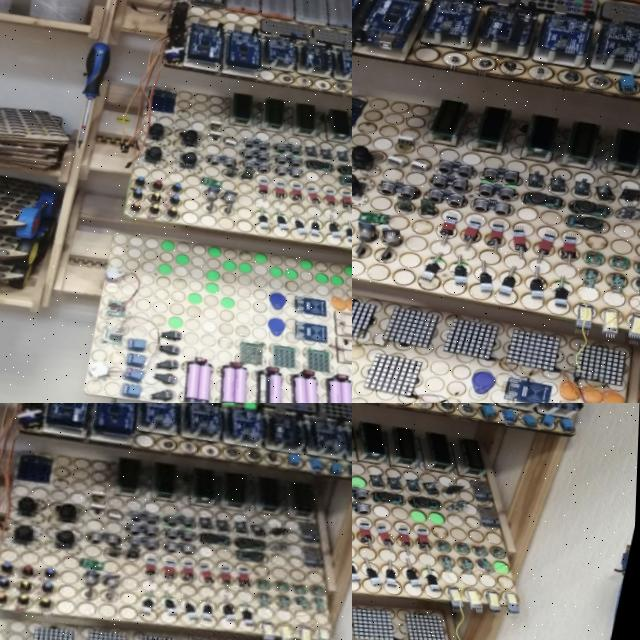Green-circles: (256, 251, 352, 300), (151, 236, 199, 282), (409, 504, 448, 528), (220, 257, 261, 278), (206, 268, 227, 295), (183, 289, 211, 309), (215, 403, 259, 415), (169, 312, 191, 334), (205, 247, 229, 263), (352, 472, 371, 491), (224, 294, 240, 316), (494, 564, 517, 575)
